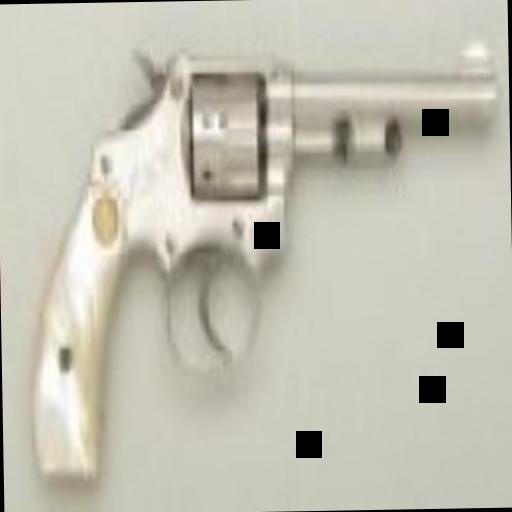Handgun: (27, 33, 499, 480)
